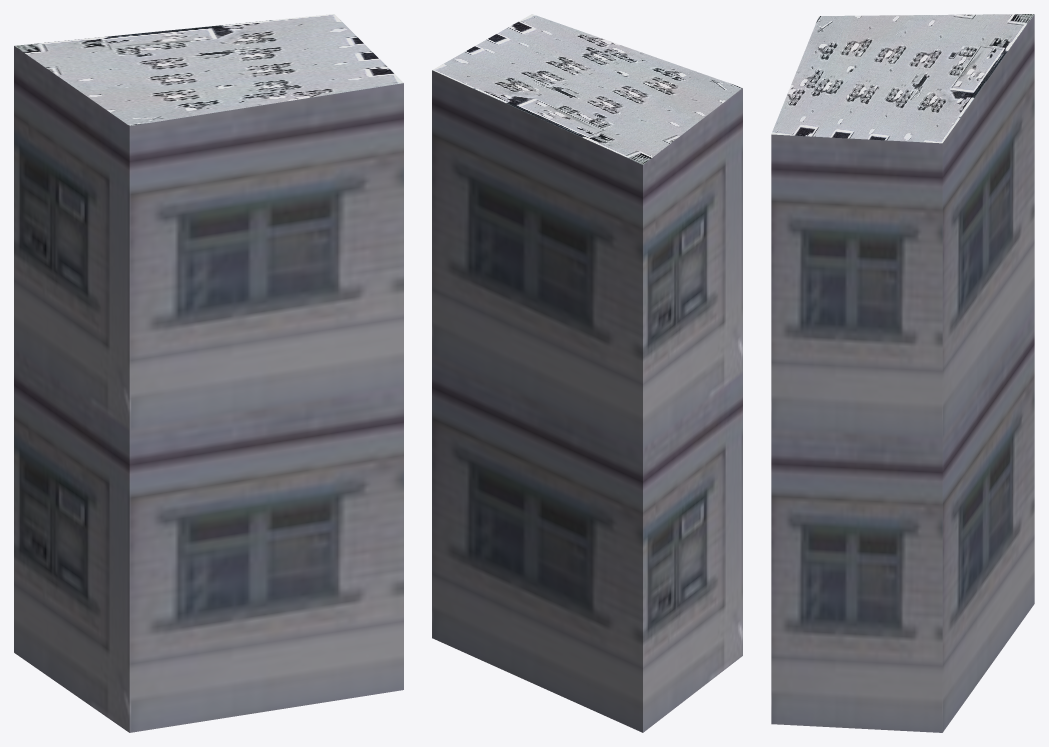
File: ResTex__2734.fbx
The picture shows the model from 3 angles, left to right: view 1: azimuth 30°, elevation 25°; view 2: azimuth 150°, elevation 25°; view 3: azimuth 270°, elevation 25°; orthographic projection. The views are drawn at different scales.
Visible parts, largest first — view 1: CityEngineMaterial_1_m, CityEngineMaterial_4_m; view 2: CityEngineMaterial_1_m, CityEngineMaterial_4_m; view 3: CityEngineMaterial_1_m, CityEngineMaterial_4_m.
Boxes of the visible parts, x1=… form: CityEngineMaterial_1_m: x1=14, y1=46, x2=403, y2=732; CityEngineMaterial_4_m: x1=14, y1=14, x2=403, y2=125; CityEngineMaterial_1_m: x1=432, y1=70, x2=742, y2=732; CityEngineMaterial_4_m: x1=432, y1=14, x2=742, y2=164; CityEngineMaterial_1_m: x1=771, y1=14, x2=1034, y2=732; CityEngineMaterial_4_m: x1=771, y1=14, x2=1034, y2=143.
Bounding box in the file's own units: 2.82 × 6 × 2.43.
2 materials, 2 textured.
